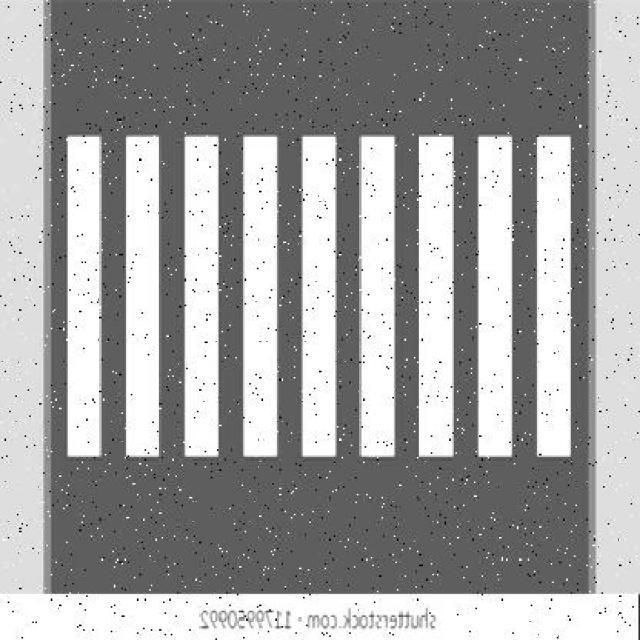Pedestrian crosswalk: (1, 113, 589, 510)
